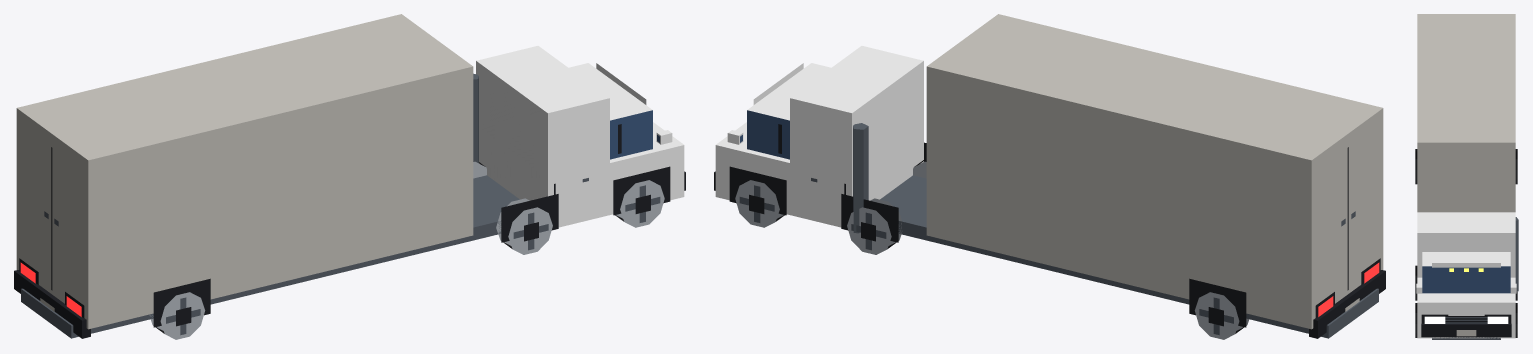
Rendered from semi_box.glb.
The picture shows the model from 3 angles, left to right: view 1: azimuth 30°, elevation 25°; view 2: azimuth 150°, elevation 25°; view 3: azimuth 270°, elevation 25°; orthographic projection. The views are drawn at different scales.
Visible parts, largest first — view 1: semi_box; view 2: semi_box; view 3: semi_box.
Part boxes in pixels (x1,y1,x2,y2): semi_box: (14,14,685,339); semi_box: (714,14,1385,339); semi_box: (1415,14,1518,339).
Bounding box in the file's own units: 0.9778 × 0.307 × 0.2126.
